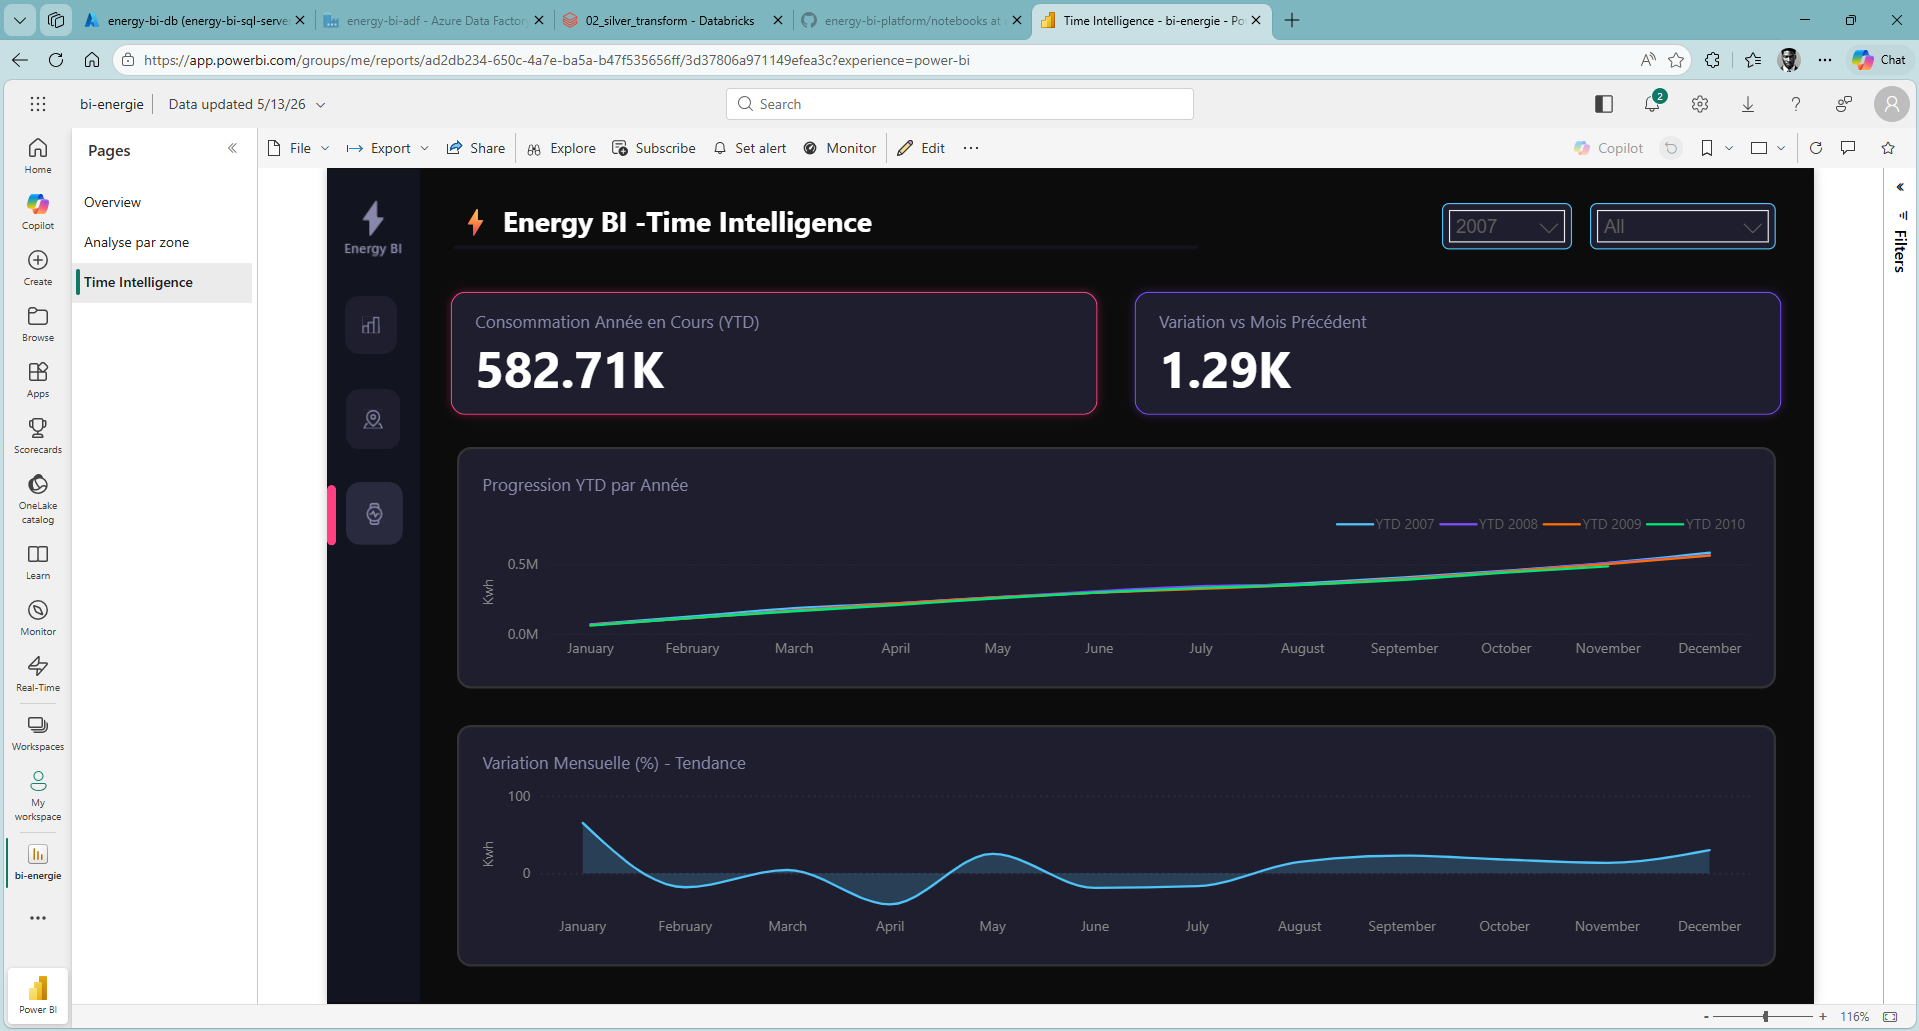

The page's visual inventory and layout, read from the dashboard file:
{"tool":"powerbi","page":{"name":"Time Intelligence","canvas":[1280,720],"ordinal":2},"visuals":[{"type":"slicer","fields":{"Values":["DimDate.month_name"]},"box":[1088,30,160,40],"z":0},{"type":"group","id":"g1","title":"Overview button","box":[0,110,60,50],"z":0,"group":"g4"},{"type":"actionButton","title":"📊","box":[15.2,110,44.8,50],"z":0,"group":"g1"},{"type":"actionButton","title":"📊","box":[15.9,190,46.9,52.1],"z":0,"group":"g2"},{"type":"actionButton","title":"📊","box":[16.7,270,49.1,54.3],"z":0,"group":"g3"},{"type":"group","id":"g2","title":"By Zone button","box":[0,190,60,50],"z":1000,"group":"g4"},{"type":"areaChart","title":"Progression YTD par Année","fields":{"Category":["DimDate.month_name"],"Y":["DimDate.YTD 2007","DimDate.YTD 2008","DimDate.YTD 2009","DimDate.YTD 2010"]},"box":[112,240,1136,208],"z":1000},{"type":"shape","box":[0,272.2,7.9,52.1],"z":1000,"group":"g3"},{"type":"textbox","box":[112,24,592,40],"z":2000},{"type":"group","id":"g3","title":"Time Intel button","box":[0,270,60,50],"z":2000,"group":"g4"},{"type":"slicer","fields":{"Values":["DimDate.year"]},"box":[960,30,112,40],"z":3000},{"type":"cardVisual","title":"Energie Totale","fields":{"Data":["DimDate.Consommation YTD","DimDate.Variation MoM %"]},"box":[96,96,1168,128],"z":4000},{"type":"areaChart","title":"Variation Mensuelle (%) - Tendance","fields":{"Category":["DimDate.month_name"],"Y":["DimDate.Variation MoM %"]},"box":[112,480,1136,208],"z":5000},{"type":"group","id":"g4","title":"buttons","box":[0,110,60,210],"z":6000}]}

Visuals, with their boxes on the page's 1280x720 design canvas (x1, y1, x2, y2). These are canvas units, not pixel positions in the 1919x1031 screenshot, which may show the page scaled, cropped or inside an application window:
slicer - DimDate.month_name: bbox=(1088, 30, 1248, 70)
"Overview button" group: bbox=(0, 110, 60, 160)
"📊" actionButton: bbox=(15, 110, 60, 160)
"📊" actionButton: bbox=(16, 190, 63, 242)
"📊" actionButton: bbox=(17, 270, 66, 324)
"By Zone button" group: bbox=(0, 190, 60, 240)
"Progression YTD par Année" areaChart: bbox=(112, 240, 1248, 448)
shape: bbox=(0, 272, 8, 324)
textbox: bbox=(112, 24, 704, 64)
"Time Intel button" group: bbox=(0, 270, 60, 320)
slicer - DimDate.year: bbox=(960, 30, 1072, 70)
"Energie Totale" cardVisual: bbox=(96, 96, 1264, 224)
"Variation Mensuelle (%) - Tendance" areaChart: bbox=(112, 480, 1248, 688)
"buttons" group: bbox=(0, 110, 60, 320)
